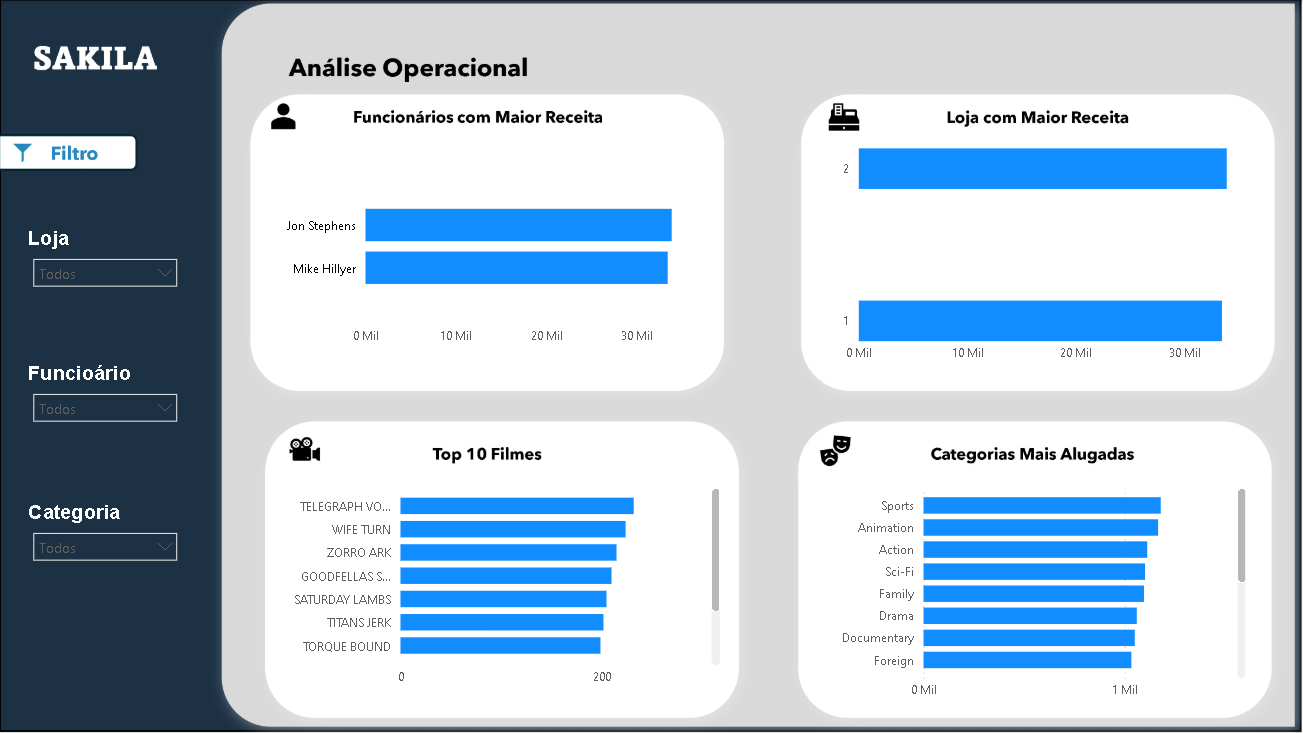

The dashboard page shown, as its layout file describes it:
{"tool":"powerbi","page":{"name":"Página 3","canvas":[1280,720],"ordinal":2},"visuals":[{"type":"barChart","fields":{"Y":["Sum(sakila vw_desempenho_funcionarios.Total_recebido)"],"Category":["sakila vw_desempenho_funcionarios.Nome_Completo"]},"box":[268.4,152.7,417.3,190.6],"z":0},{"type":"barChart","fields":{"Category":["sakila vw_receita_por_loja.store_id"],"Y":["Sum(sakila vw_receita_por_loja.valor_total)"]},"box":[809.2,131.3,418.2,228.6],"z":1000},{"type":"barChart","fields":{"Category":["sakila vw_receita_filmes.title"],"Y":["Sum(sakila vw_receita_filmes.filmes_mais_vendidos)"]},"box":[268.4,462,438.7,213],"z":2000},{"type":"barChart","fields":{"Category":["sakila vw_categorias_mais_alugadas.name"],"Y":["Sum(sakila vw_categorias_mais_alugadas.categorias_mais_alugadas)"]},"box":[809.2,462,409.5,225.7],"z":3000},{"type":"slicer","title":"Funcioário","fields":{"Values":["sakila vw_desempenho_funcionarios.Nome_Completo"]},"box":[24,351.5,160.3,75.1],"z":5000},{"type":"slicer","title":"Loja","fields":{"Values":["sakila vw_receita_por_loja.store_id"]},"box":[24,219.3,160.3,75.1],"z":6000},{"type":"slicer","title":"Categoria","fields":{"Values":["sakila vw_categorias_mais_alugadas.name"]},"box":[24,486.8,160.3,75.1],"z":7000}]}

Visuals, with their boxes on the page's 1280x720 design canvas (x1, y1, x2, y2). These are canvas units, not pixel positions in the 1303x733 screenshot, which may show the page scaled, cropped or inside an application window:
barChart - Sum(sakila vw_desempenho_funcionarios.Total_recebido) x sakila vw_desempenho_funcionarios.Nome_Completo: {"x1": 268, "y1": 153, "x2": 686, "y2": 343}
barChart - sakila vw_receita_por_loja.store_id x Sum(sakila vw_receita_por_loja.valor_total): {"x1": 809, "y1": 131, "x2": 1227, "y2": 360}
barChart - sakila vw_receita_filmes.title x Sum(sakila vw_receita_filmes.filmes_mais_vendidos): {"x1": 268, "y1": 462, "x2": 707, "y2": 675}
barChart - sakila vw_categorias_mais_alugadas.name x Sum(sakila vw_categorias_mais_alugadas.categorias_mais_alugadas): {"x1": 809, "y1": 462, "x2": 1219, "y2": 688}
"Funcioário" slicer: {"x1": 24, "y1": 352, "x2": 184, "y2": 427}
"Loja" slicer: {"x1": 24, "y1": 219, "x2": 184, "y2": 294}
"Categoria" slicer: {"x1": 24, "y1": 487, "x2": 184, "y2": 562}
